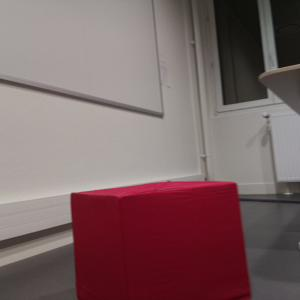medium: (68, 180, 253, 300)
